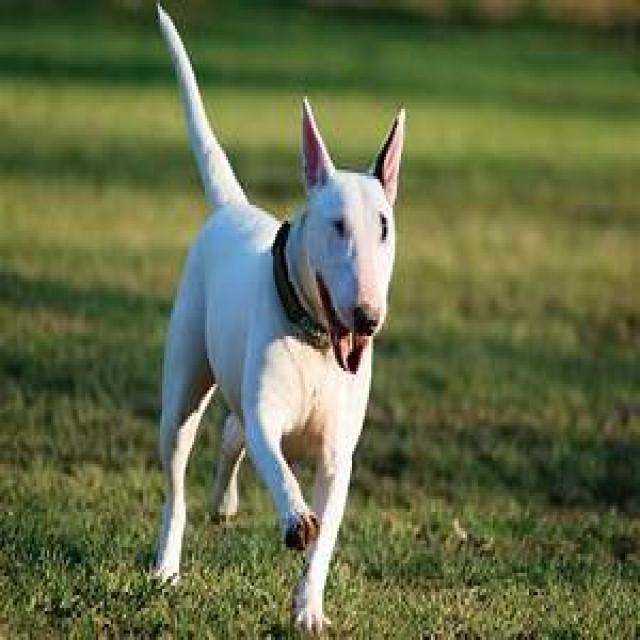animal: (149, 0, 410, 631)
